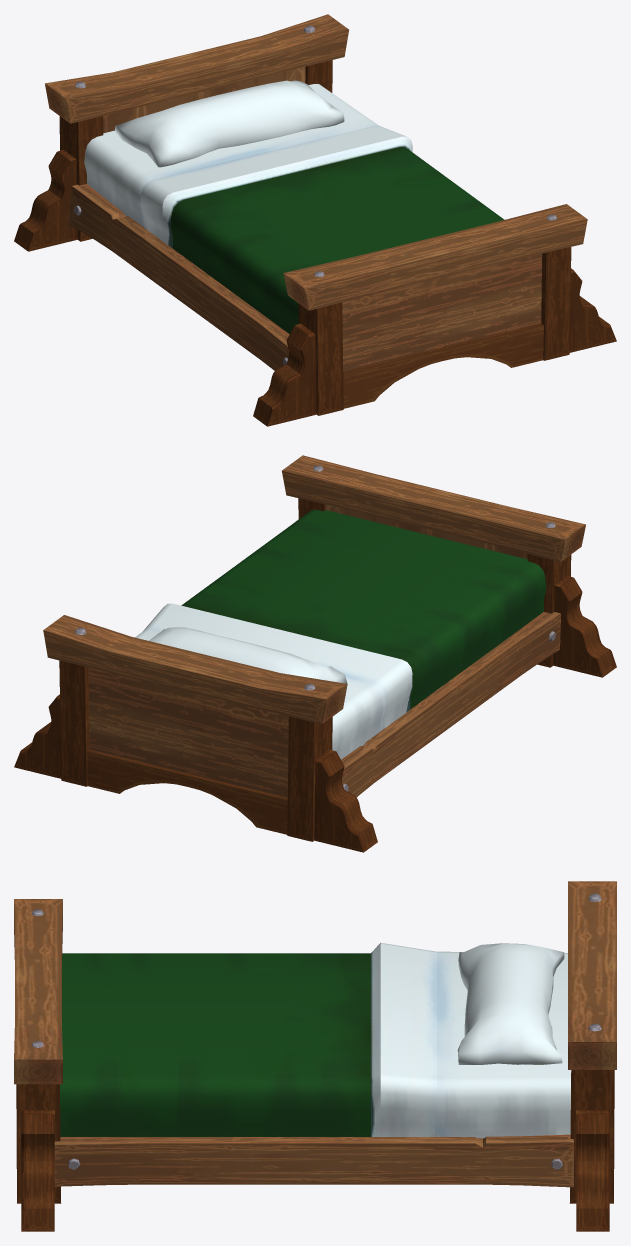
Rendered from bed_twin2.gltf.
3 renders of one model, top to bottom at view 1: azimuth 30°, elevation 25°; view 2: azimuth 150°, elevation 25°; view 3: azimuth 270°, elevation 25°, orthographic. The views are drawn at different scales.
Visible parts, largest first — view 1: Bed_Twin2; view 2: Bed_Twin2; view 3: Bed_Twin2.
Boxes of the visible parts, left/top/right/bottom form: Bed_Twin2: left=14, top=14, right=616, bottom=426; Bed_Twin2: left=14, top=455, right=616, bottom=852; Bed_Twin2: left=14, top=881, right=616, bottom=1231.
Size of the model in its own units: 1.88 by 0.7596 by 2.41.
Materials: 3 (3 with a texture image).
